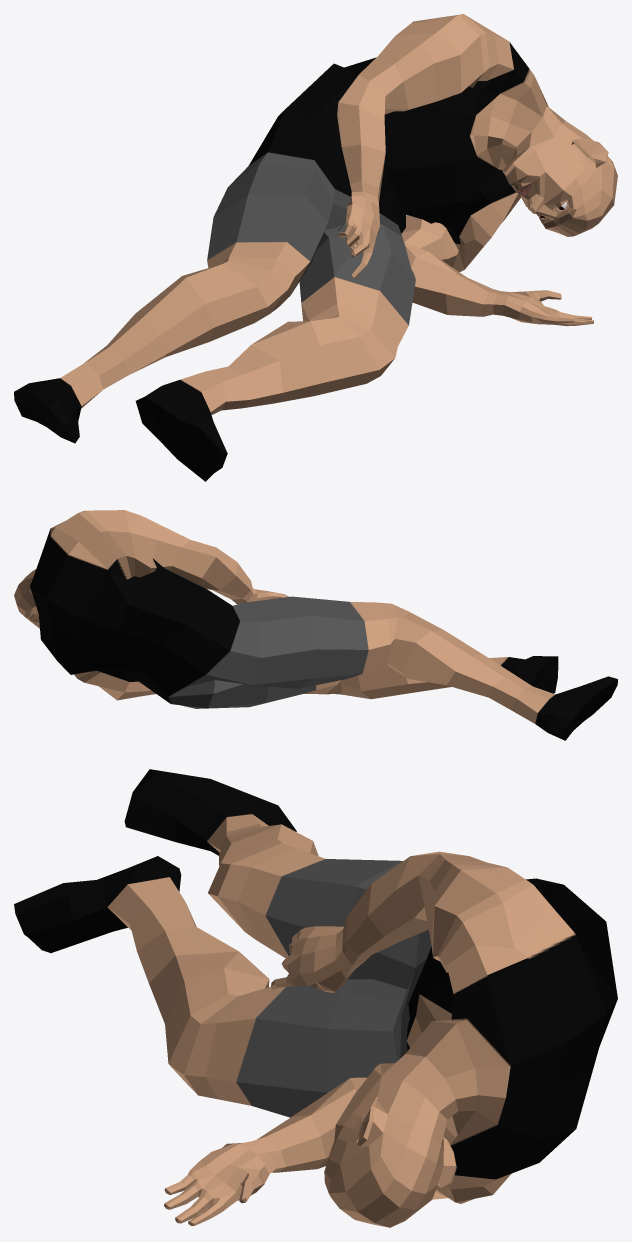
Rendered from PlayerDead(83).obj.
3 renders of one model, top to bottom at view 1: azimuth 30°, elevation 25°; view 2: azimuth 150°, elevation 25°; view 3: azimuth 270°, elevation 25°, orthographic. The views are drawn at different scales.
Visible parts, largest first — view 1: Plane002; view 2: Plane002; view 3: Plane002.
Boxes of the visible parts, bbox=[...] form: Plane002: bbox=[14, 14, 617, 481]; Plane002: bbox=[14, 510, 617, 740]; Plane002: bbox=[14, 769, 617, 1227].
Size of the model in its own units: 1570 by 561 by 909.
